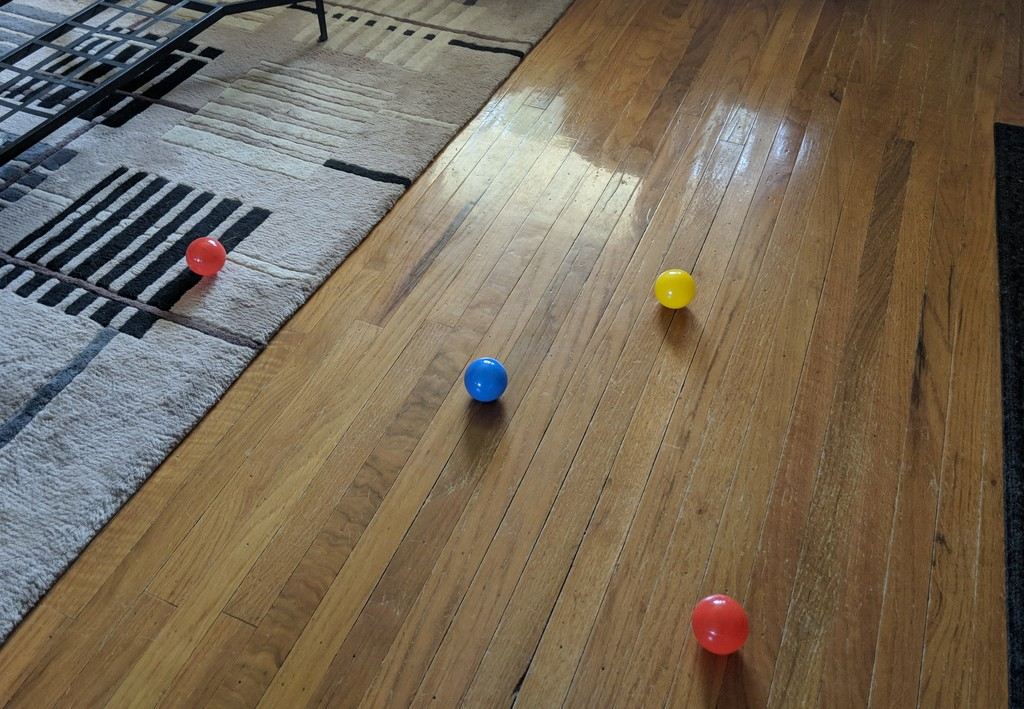ball: (182, 233, 227, 279)
